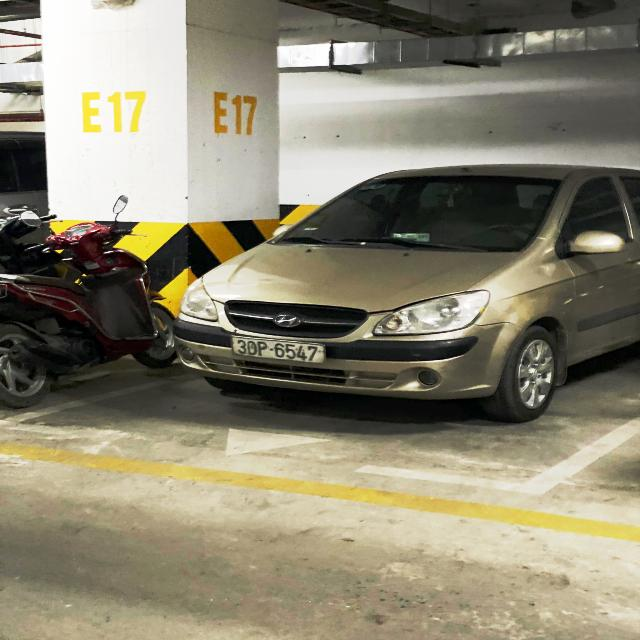license_plate: (229, 334, 329, 367)
